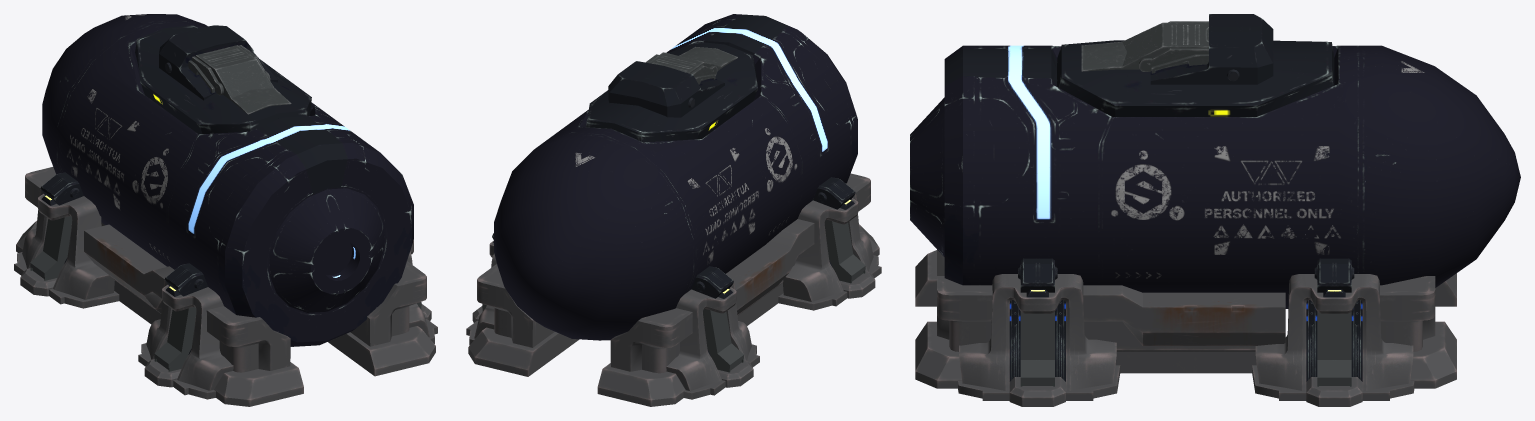
The picture shows the model from 3 angles, left to right: view 1: azimuth 30°, elevation 25°; view 2: azimuth 150°, elevation 25°; view 3: azimuth 270°, elevation 25°; orthographic projection. The views are drawn at different scales.
Parts seen in each view (by area): view 1: skfb_offset; view 2: skfb_offset; view 3: skfb_offset.
Boxes of the visible parts, bbox=[...] form: skfb_offset: bbox=[14, 14, 437, 406]; skfb_offset: bbox=[466, 14, 881, 406]; skfb_offset: bbox=[910, 14, 1520, 406].
Bounding box in the file's own units: 31011 × 27064 × 50194.
Materials: 1 (1 with a texture image).
